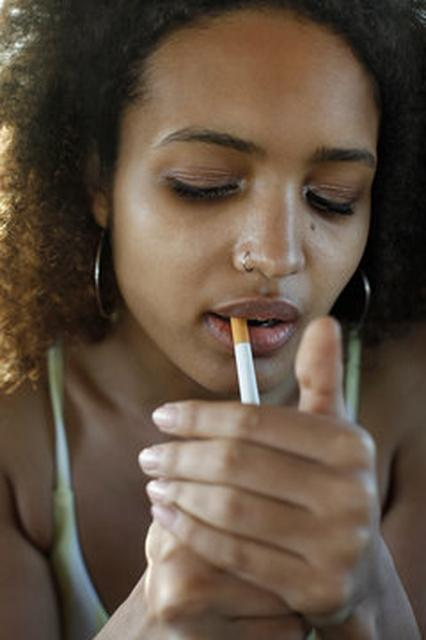Cigarette: (228, 314, 261, 406)
